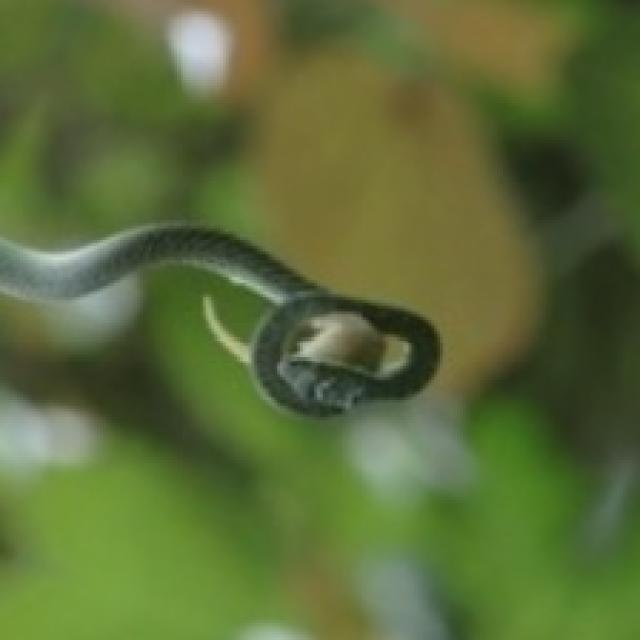paradise tree snake: (0, 223, 437, 414)
